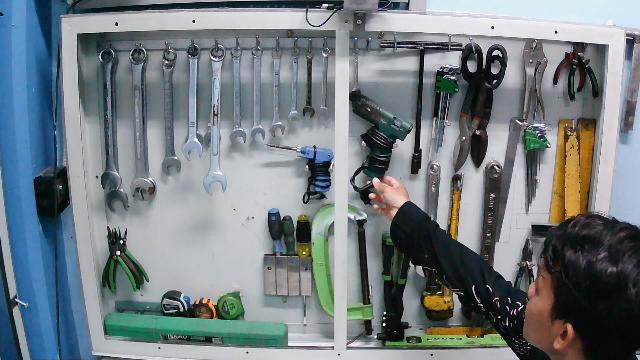gun_lem: (349, 89, 415, 207)
